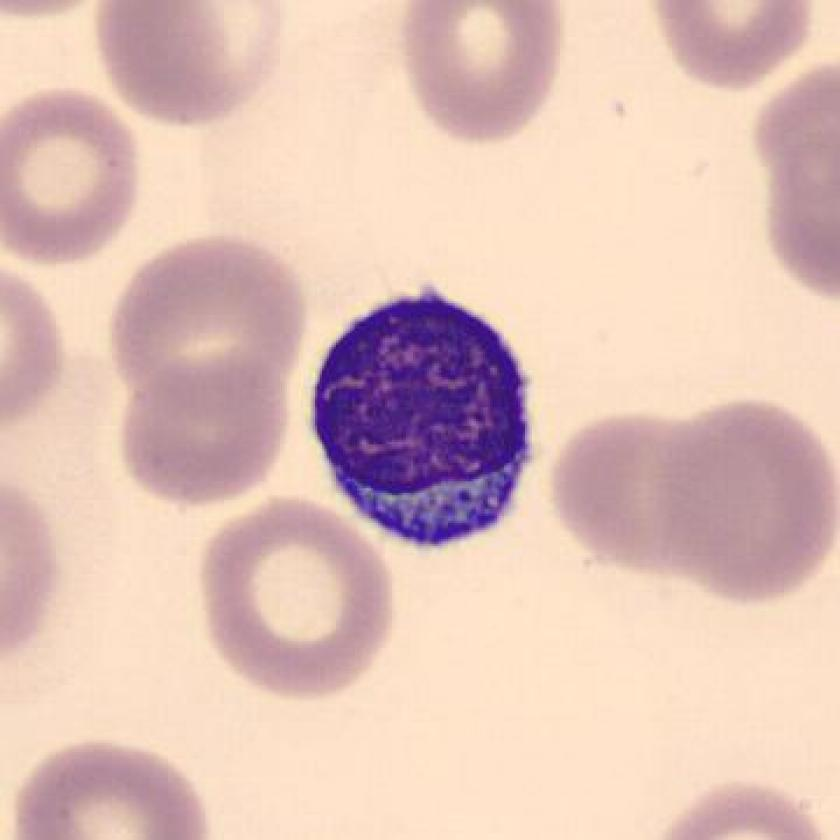lymphocyte: (290, 270, 566, 571)
